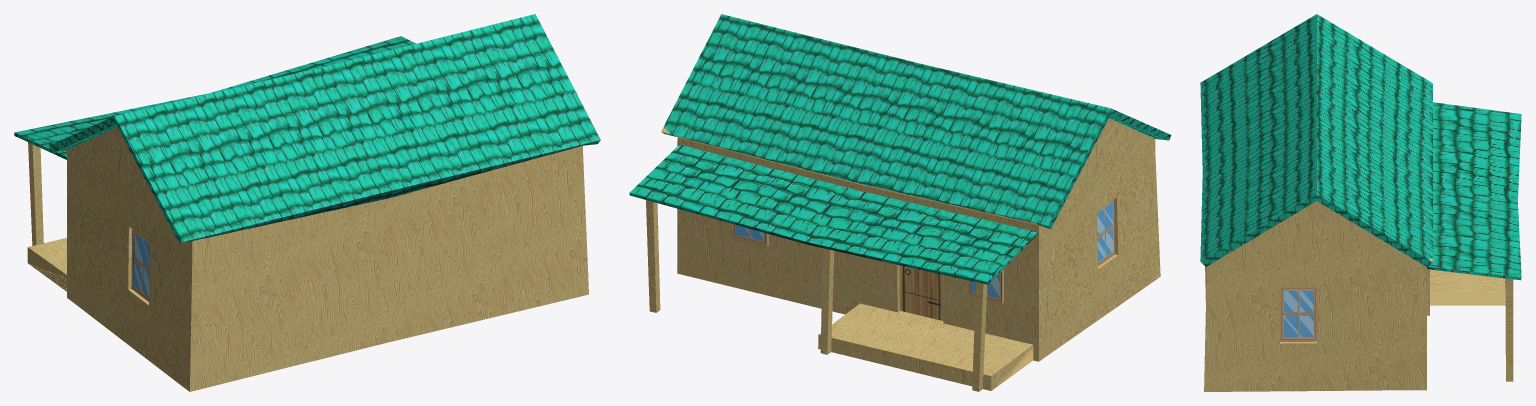
File: FRM0310004.fbx
The picture shows the model from 3 angles, left to right: view 1: azimuth 30°, elevation 25°; view 2: azimuth 150°, elevation 25°; view 3: azimuth 270°, elevation 25°; orthographic projection. The views are drawn at different scales.
Visible parts, largest first — view 1: smFRM0310004; view 2: smFRM0310004; view 3: smFRM0310004.
Part boxes in pixels (left/top/right/bottom): smFRM0310004: left=14, top=14, right=600, bottom=391; smFRM0310004: left=629, top=14, right=1171, bottom=391; smFRM0310004: left=1200, top=14, right=1521, bottom=391.
Size of the model in its own units: 949 by 499 by 716.
Materials: 1 (1 with a texture image).
